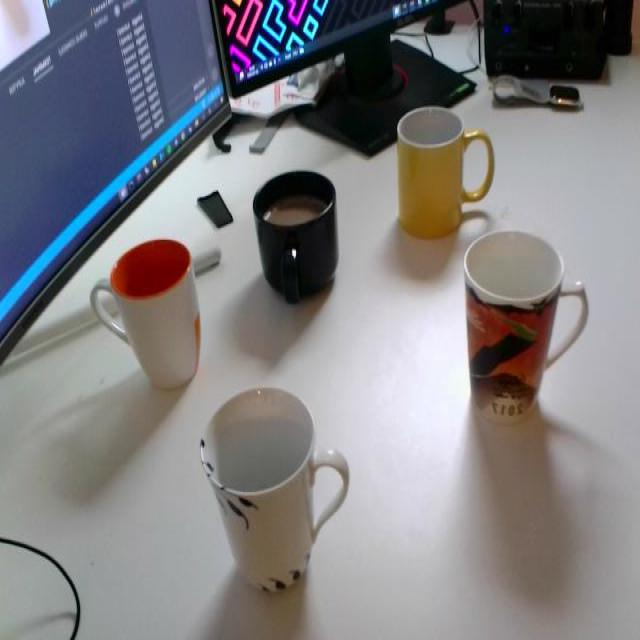cup: (195, 376, 351, 596), (453, 220, 598, 430), (88, 230, 206, 403), (386, 103, 495, 247), (255, 158, 341, 317)
